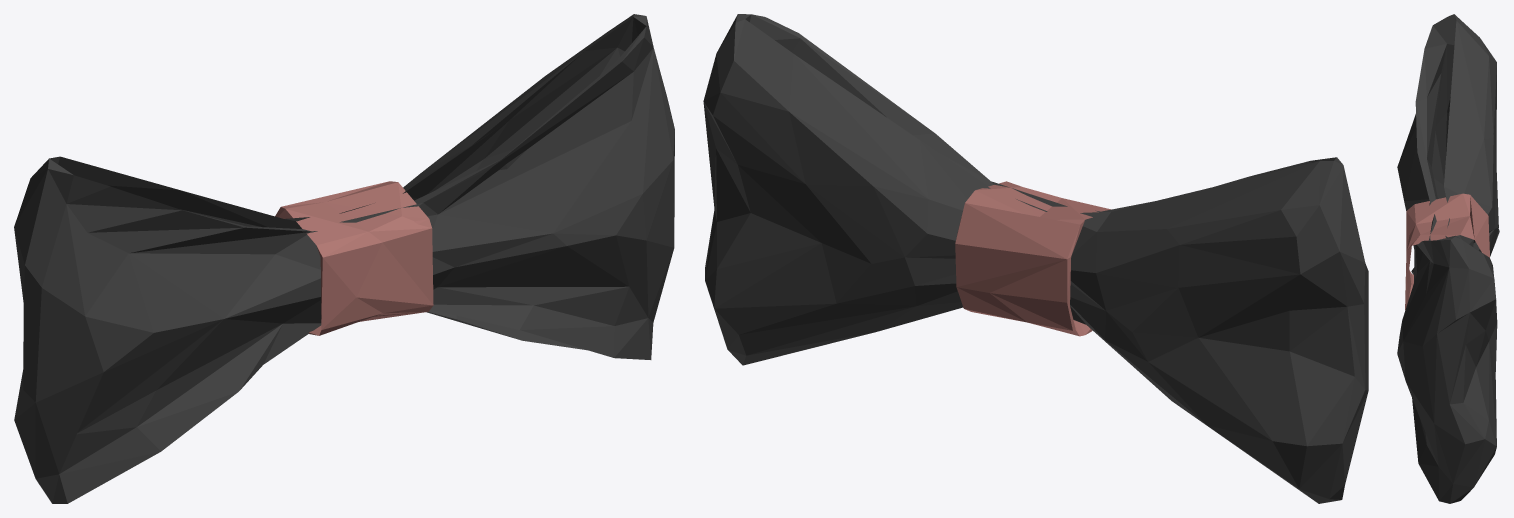
The model's file is bowtile.fbx.
The picture shows the model from 3 angles, left to right: view 1: azimuth 30°, elevation 25°; view 2: azimuth 150°, elevation 25°; view 3: azimuth 270°, elevation 25°; orthographic projection. The views are drawn at different scales.
Visible parts, largest first — view 1: BowTie; view 2: BowTie; view 3: BowTie.
Boxes of the visible parts, box(x1,y1,x2,y2) form: BowTie: box(14, 14, 674, 503); BowTie: box(703, 14, 1368, 503); BowTie: box(1397, 14, 1499, 503).
Size of the model in its own units: 63.06 by 31.87 by 11.14.
